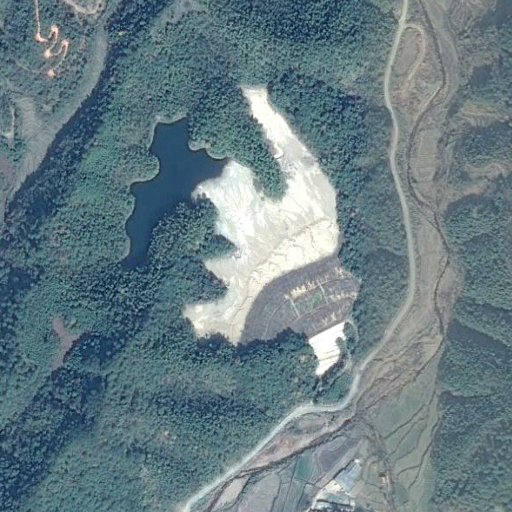tp: (115, 86, 368, 374)
